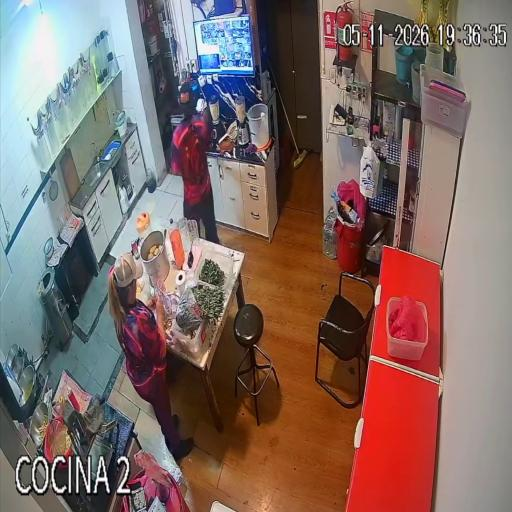Envase Ketchup: (66, 387, 79, 410)
Envase Llajua: (58, 395, 65, 404)
Jarra2: (136, 212, 153, 238)
Microondas: (168, 115, 183, 130)
Persona1: (172, 84, 218, 243)
Persona2: (109, 253, 193, 458)
Tapa de olla: (44, 237, 53, 255)
Taper: (37, 280, 46, 300)
Taper2: (194, 247, 234, 295)
Taper3: (173, 280, 218, 358)
olla1: (141, 229, 169, 289)
